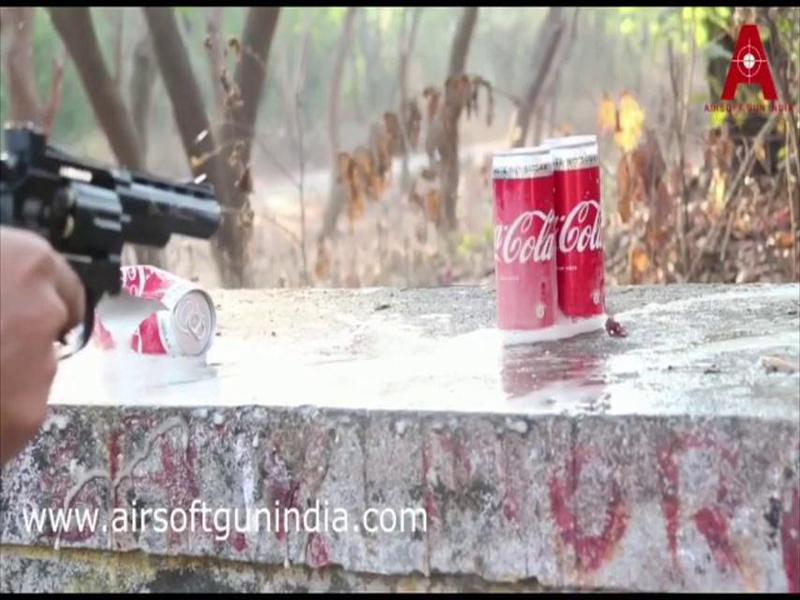Revolver: (1, 112, 230, 365)
